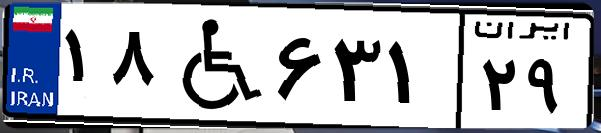1: (385, 28, 445, 110), (57, 26, 110, 100)
2: (475, 38, 525, 113)
3: (330, 28, 385, 110)
6: (270, 28, 330, 110)
8: (110, 28, 158, 98)
9: (525, 38, 570, 115)
ژ (معلولین و جانبازان): (158, 12, 270, 120)
